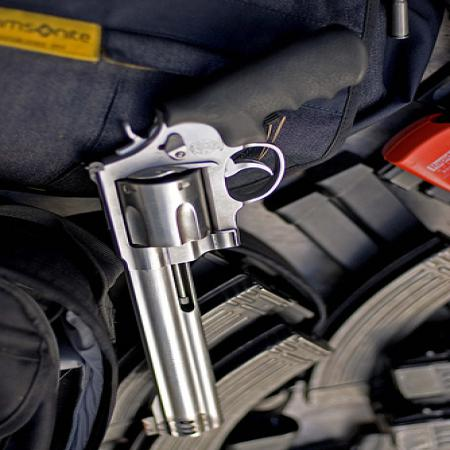Pistol: (85, 26, 373, 438)
